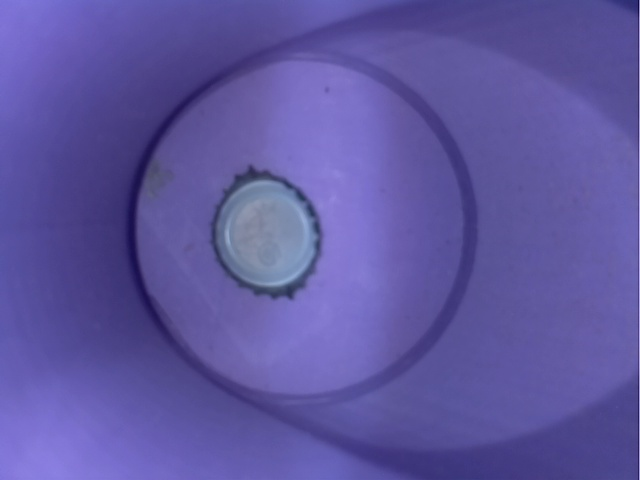capsule: (194, 158, 338, 305)
